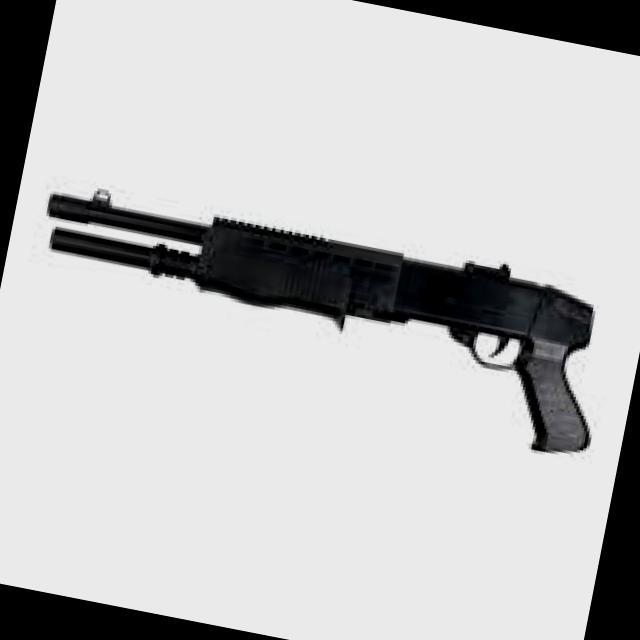long weapon: (14, 168, 630, 468)
